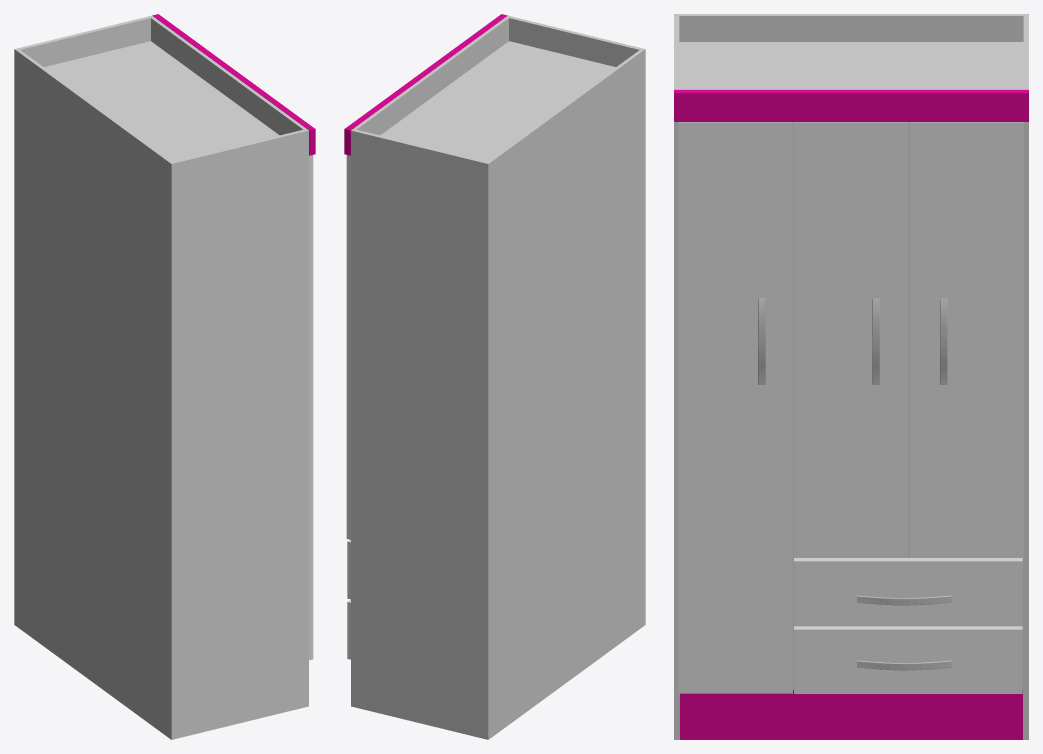
The model's file is White and Pink Wooden Wardrobe.glb.
3 renders of one model, left to right at view 1: azimuth 30°, elevation 25°; view 2: azimuth 150°, elevation 25°; view 3: azimuth 270°, elevation 25°, orthographic. The views are drawn at different scales.
Visible parts, largest first — view 1: Cube, Cube.002, Cube.001; view 2: Cube, Cube.004, Cube.001; view 3: Cube.002, Cube.003, Cube.004, Cube, Cube.022, Cube.005, Cube.006, Cube.001, Cube.016, Cube.019, Cube.007, Cube.010 (+1 smaller).
Boxes of the visible parts, x1,y1,x2,y2 form: Cube: (14,15,308,739); Cube.002: (309,155,313,660); Cube.001: (152,14,315,155); Cube: (351,15,645,739); Cube.004: (346,155,350,539); Cube.001: (344,14,507,155); Cube.002: (678,122,792,693); Cube.003: (794,122,908,557); Cube.004: (909,122,1023,557); Cube: (674,14,1028,739); Cube.022: (680,690,1022,739); Cube.005: (794,558,1022,625); Cube.006: (794,626,1022,693); Cube.001: (674,90,1028,121); Cube.016: (857,595,951,605); Cube.019: (857,660,951,670); Cube.007: (758,298,765,384); Cube.010: (872,298,879,384).
Size of the model in its own units: 0.497 by 1.82 by 0.9.
